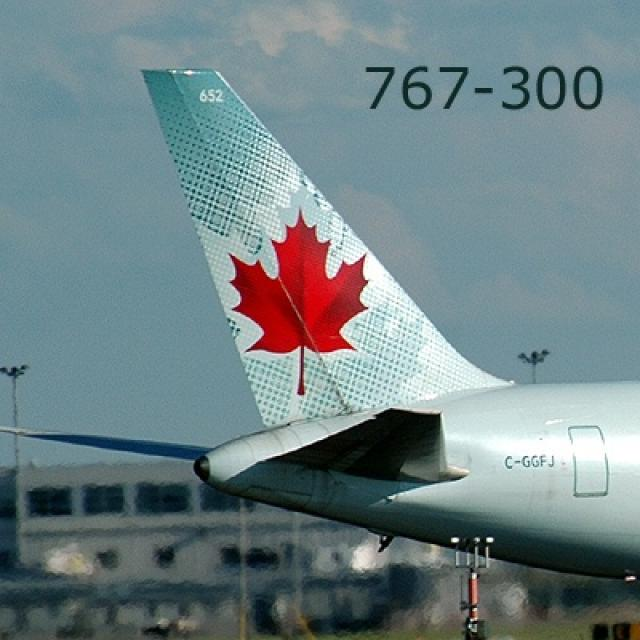aeroplane: (5, 67, 640, 595)
